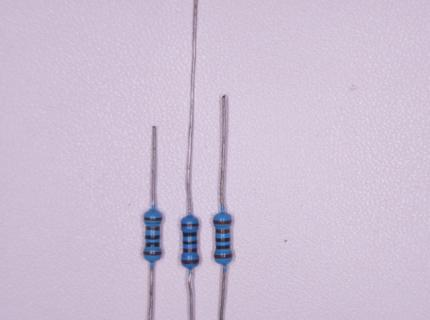Black band: (215, 237, 230, 242), (183, 232, 197, 237), (183, 240, 197, 245), (216, 245, 231, 249), (145, 242, 159, 246), (146, 235, 159, 239)
Brown band: (214, 253, 232, 259), (181, 259, 199, 264), (143, 217, 163, 221), (213, 220, 232, 224), (143, 251, 162, 255), (181, 223, 199, 227), (183, 248, 197, 253), (216, 229, 230, 233), (146, 226, 160, 230)
